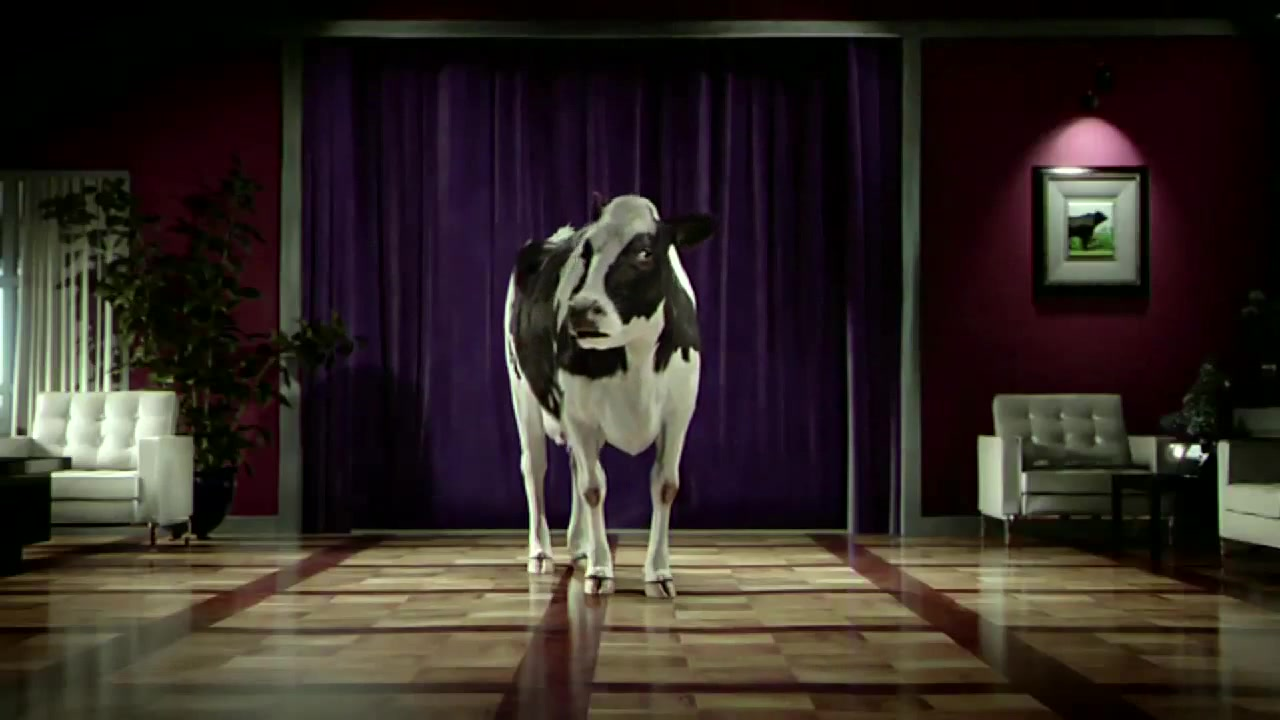cow: (500, 193, 723, 605)
